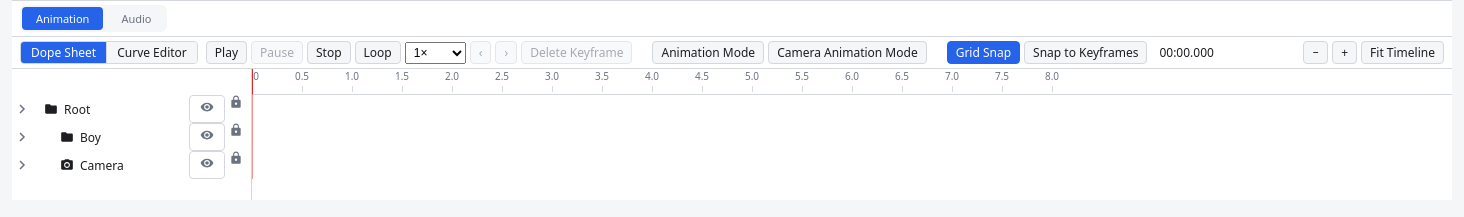
TimelinePanel view toggle › shows Fit Curves and Frame Selected buttons in curve editor mode
This screenshot has width=1464, height=217.
Expected: the button "Boy" is shown, [32,123,251,151]
Click the button "Curve Editor" at (152, 52), box [107,42,197,63]
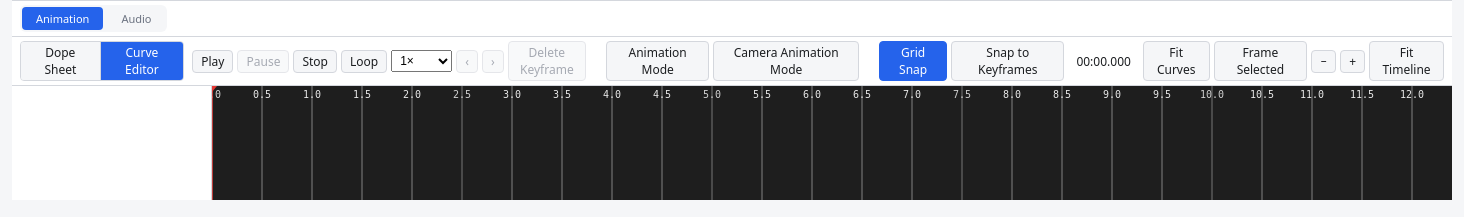
Expected: the button "Fit Curves" is shown, [1143,41,1210,81]
Expected: the button "Frame Selected" is shown, [1214,41,1307,81]
